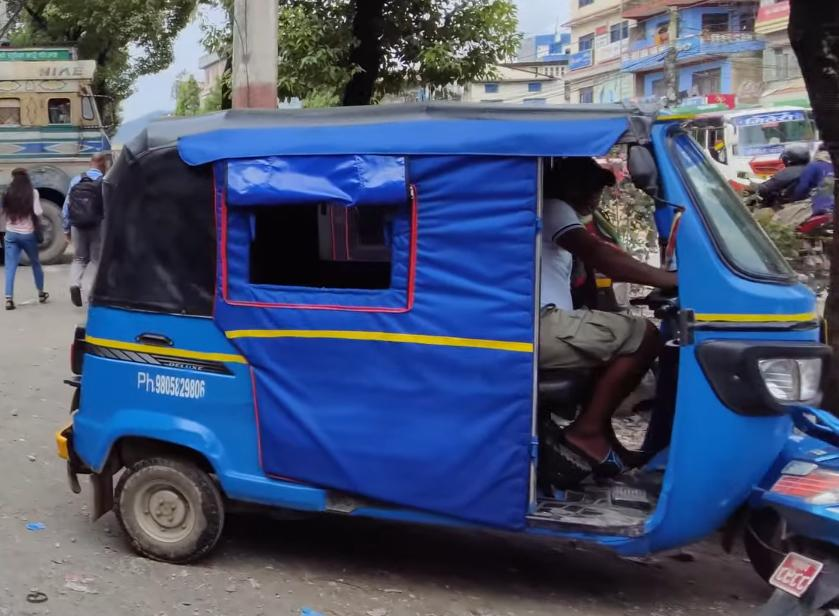auto_rickshaw: (52, 99, 839, 570)
